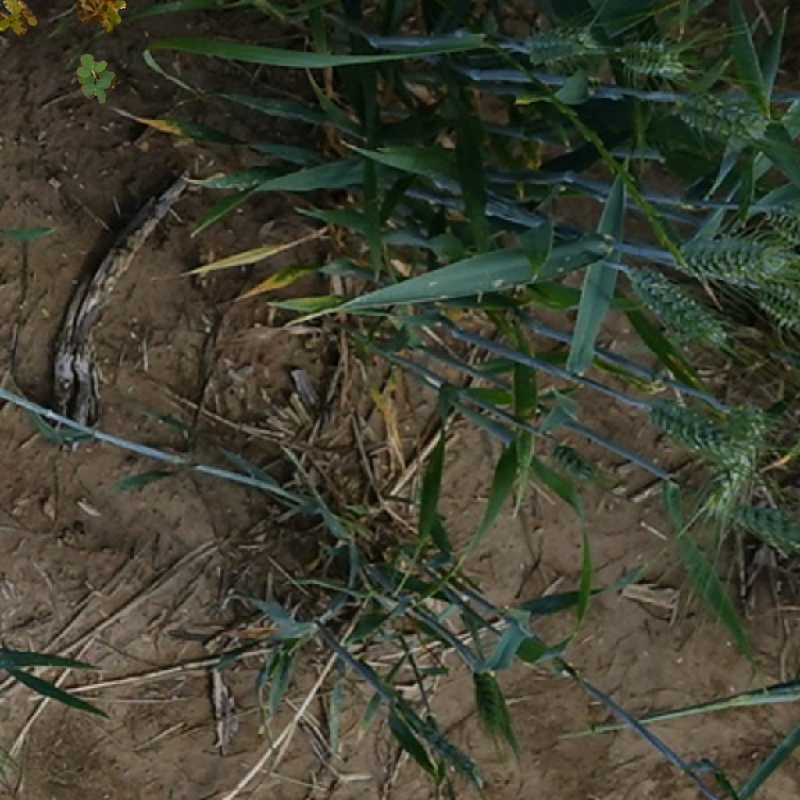spikelet: (621, 262, 724, 353), (702, 403, 760, 515), (680, 239, 800, 286), (667, 91, 767, 144), (643, 396, 735, 453), (613, 32, 693, 81), (519, 26, 600, 72), (467, 668, 510, 741), (757, 283, 799, 332), (548, 443, 599, 483), (767, 203, 800, 243)
weed: (68, 1, 136, 45), (77, 54, 116, 104), (1, 1, 45, 39)
